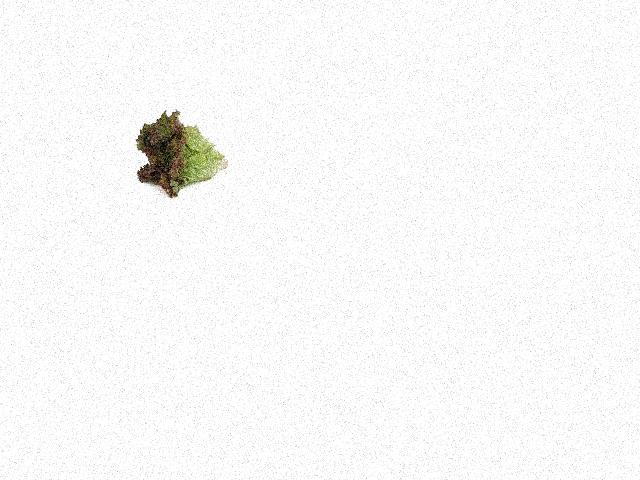lettuce: (124, 106, 230, 205)
